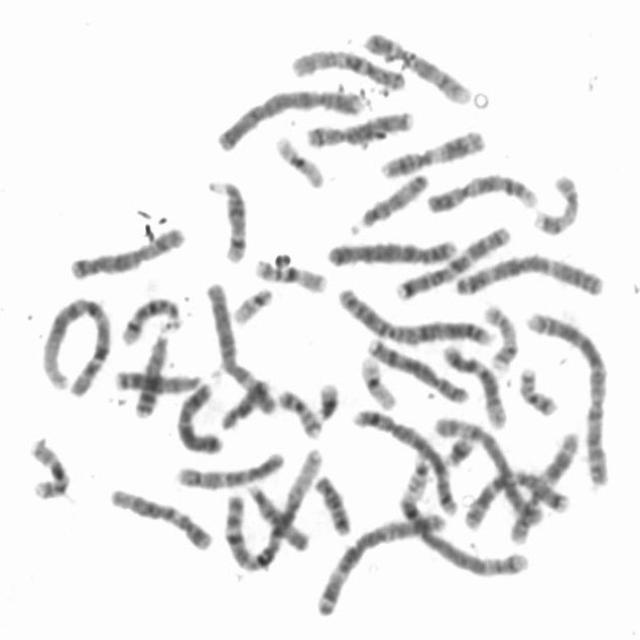A1: (218, 442, 324, 574), (35, 290, 115, 398)
A2: (522, 303, 615, 488), (331, 281, 497, 348)
A3: (312, 504, 451, 620), (449, 247, 608, 299)
B4: (213, 82, 368, 154), (322, 232, 460, 270)
B5: (392, 476, 532, 580), (348, 402, 460, 516)
C10: (286, 42, 409, 92), (170, 446, 288, 492)
C11: (506, 425, 584, 547), (375, 122, 488, 179)
C12: (104, 481, 217, 554), (436, 339, 508, 429)
C6: (430, 409, 550, 528), (201, 275, 278, 417)
C7: (392, 220, 515, 302), (458, 461, 574, 533)
C8: (362, 331, 473, 405), (300, 104, 416, 150)
C9: (358, 26, 472, 106), (422, 166, 542, 215)
D13: (130, 320, 175, 419), (110, 364, 208, 395)
D14: (202, 172, 252, 266), (118, 291, 184, 346)
D15: (348, 166, 432, 233), (241, 478, 310, 553)
E16: (23, 432, 74, 502), (250, 252, 330, 295)
E17: (528, 168, 582, 237), (480, 298, 521, 373)
E18: (216, 374, 274, 432), (309, 468, 355, 536)
F19: (270, 129, 328, 190), (355, 351, 400, 412)
F20: (273, 382, 326, 440), (513, 361, 561, 418)
G21: (436, 429, 477, 469), (310, 376, 342, 422)
G22: (228, 282, 276, 326), (402, 451, 432, 500)
X: (65, 220, 188, 282), (171, 376, 226, 455)
